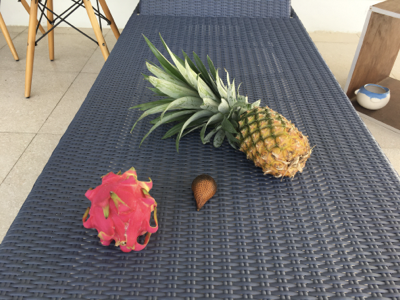dragon fruit: (83, 169, 159, 254)
pineapple: (128, 34, 311, 181)
snake fruit: (193, 174, 216, 213)
